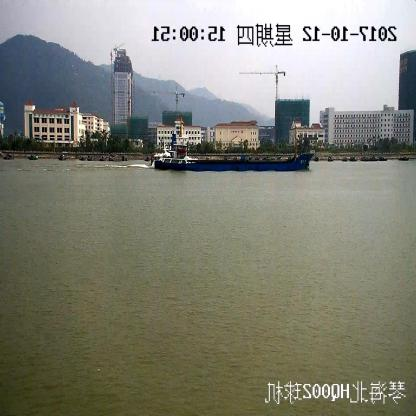Bulk Carrier: (154, 120, 313, 172)
